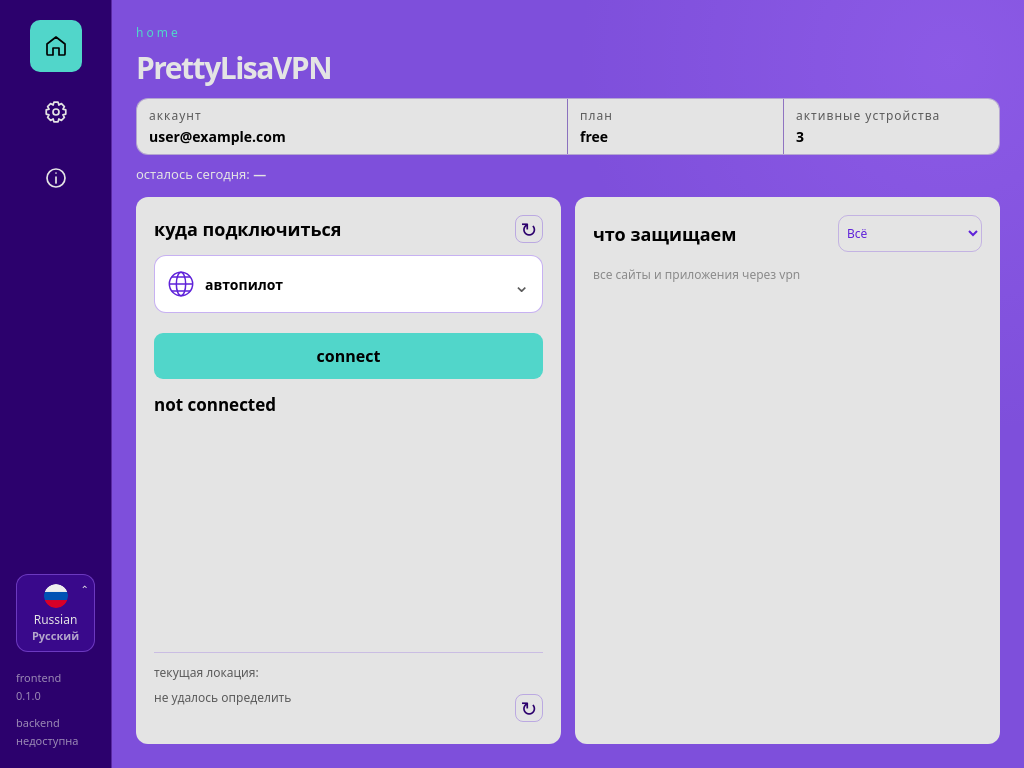
Test: authenticated Home › shows CONNECTING and only reports Connected after orchestration confirmation
Click the button "CONNECT" at [348, 356], box [154,333,543,379]
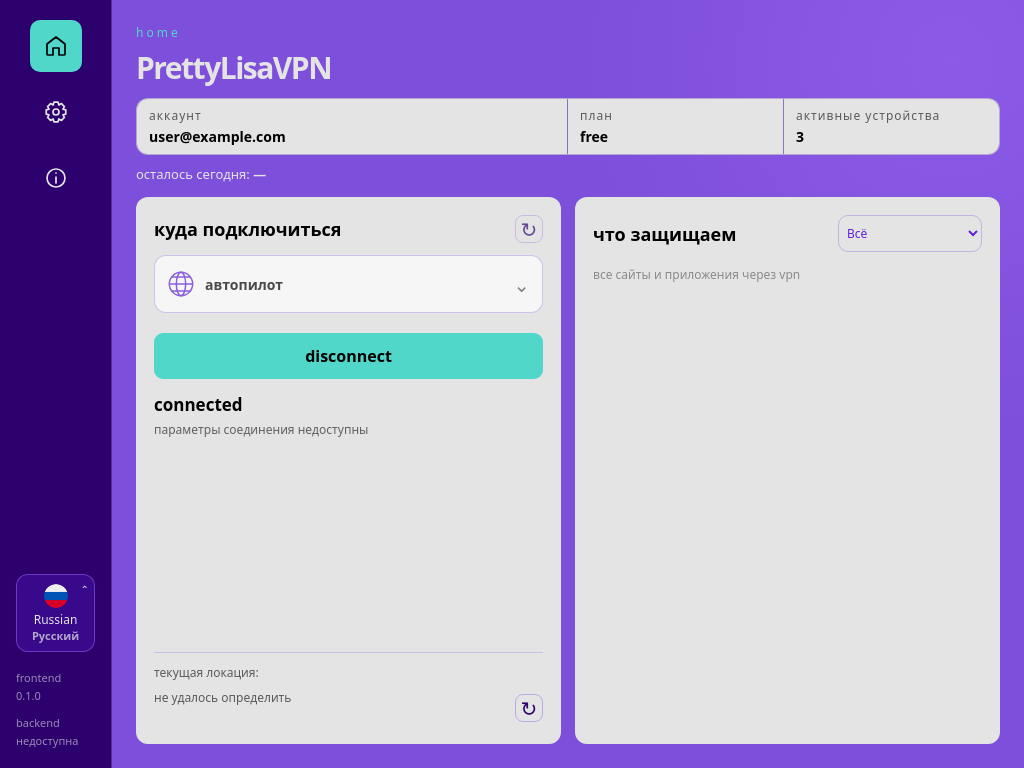
Expected: the heading "Connected" is shown, [154,393,243,416]
Expected: the dropdown named "куда подключиться" is disabled, [154,255,543,313]
Click the button "DISCONNECT" at [348, 356], box [154,333,543,379]
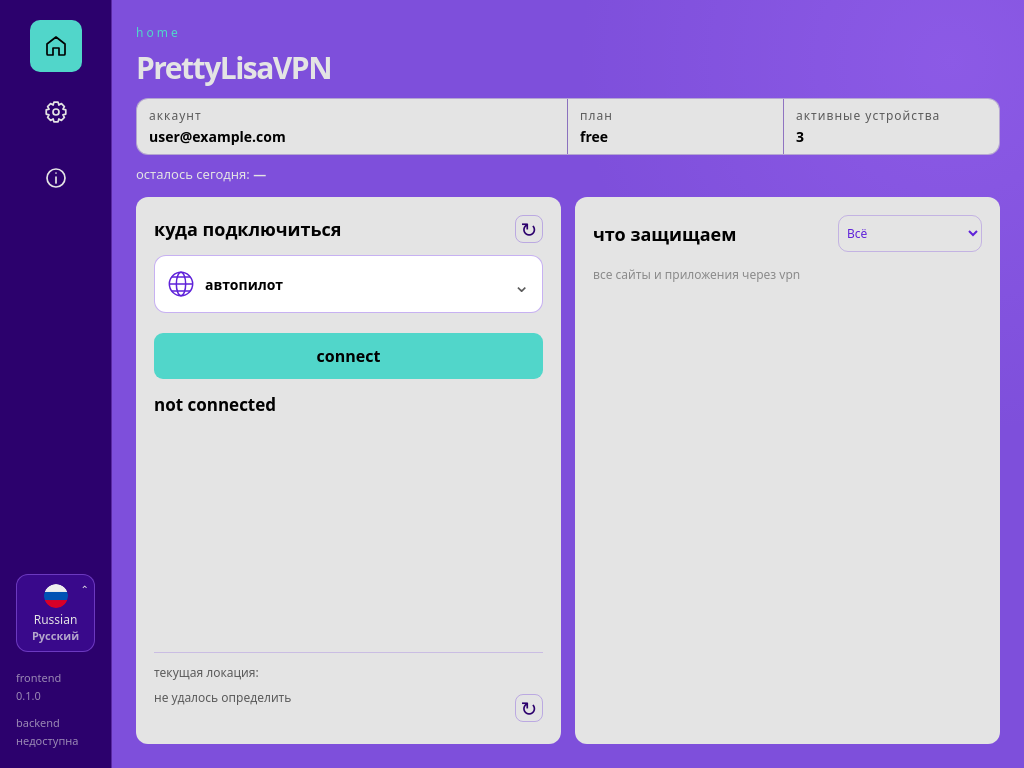
Expected: the heading "Not connected" is shown, [154,393,276,416]
